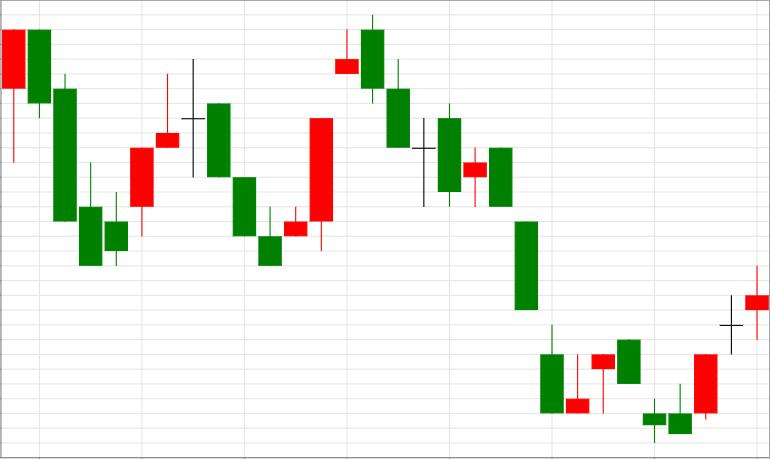bearish_engulfing_fall: (259, 14, 384, 266)
three_black_crows_fall: (104, 58, 282, 266)
